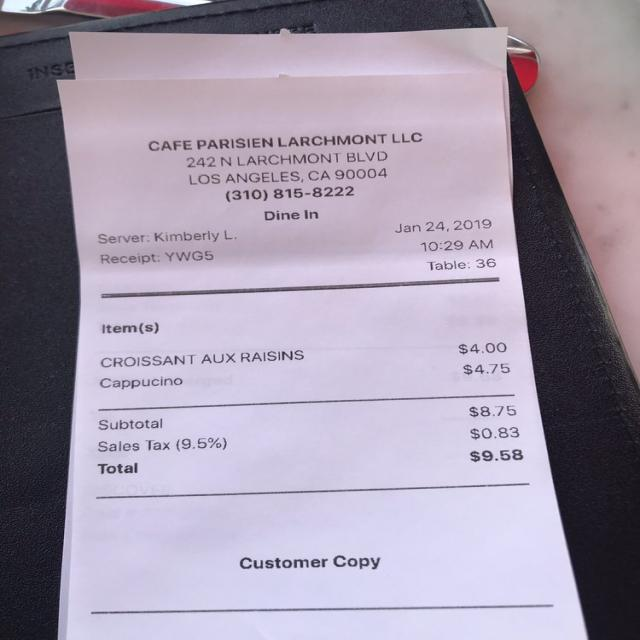TotalPrice: (83, 445, 535, 486)
